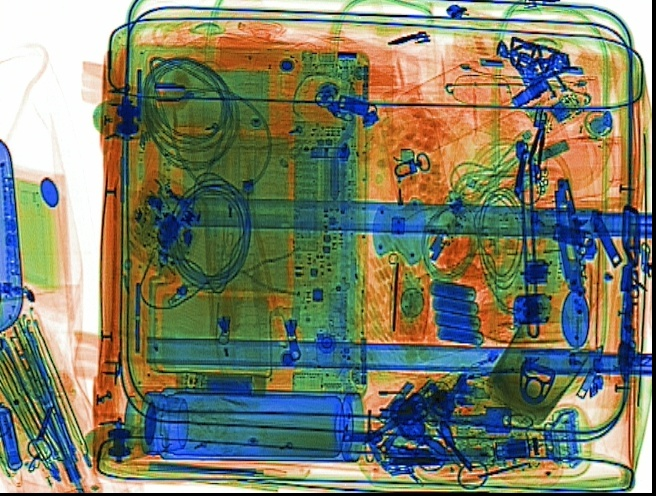knife: (553, 177, 589, 296)
powerbank: (426, 273, 489, 347)
